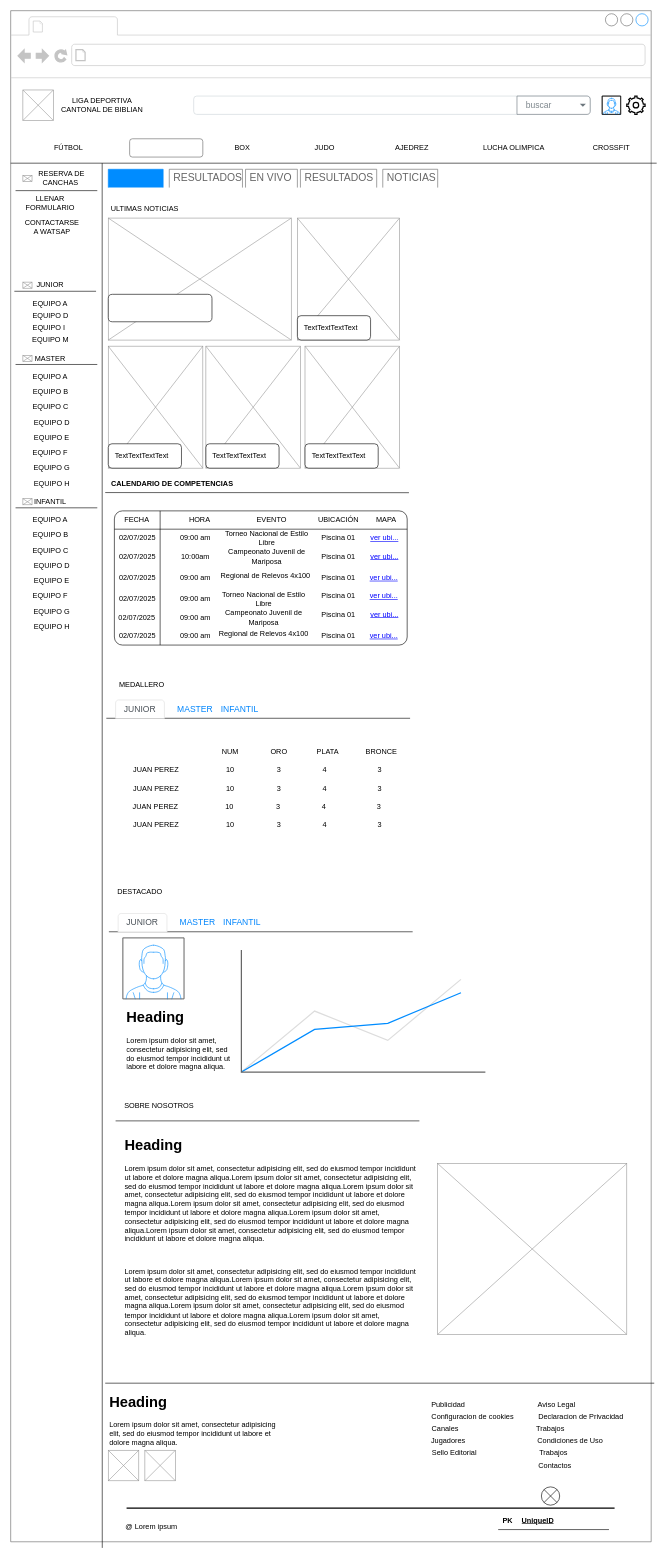
This 668x1559 diagram has some shape labels left out. Each missing label, with the centre of its shape:
"https://www.ligadeportivacantonaldebiblian.com" goes at point (165, 55).
"INICIO" goes at point (135, 178).
"LIGA DEP..." goes at point (80, 25).
"NATACIÓN" goes at point (166, 147).
"TextTextTextTextTextText" goes at point (160, 308).
